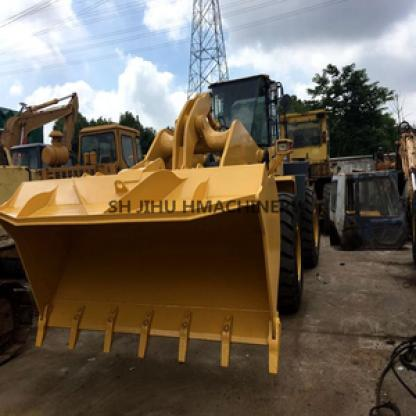bull_dozer/loader/grader: (8, 62, 330, 376)
